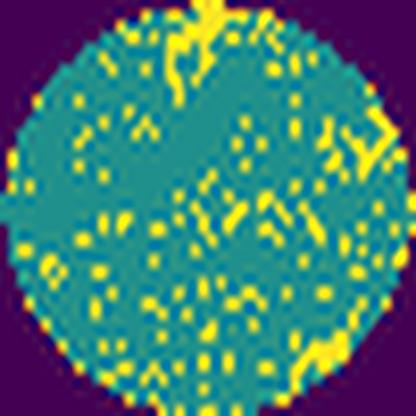Loc: (164, 0, 251, 111), (290, 328, 358, 398), (340, 107, 400, 182)
